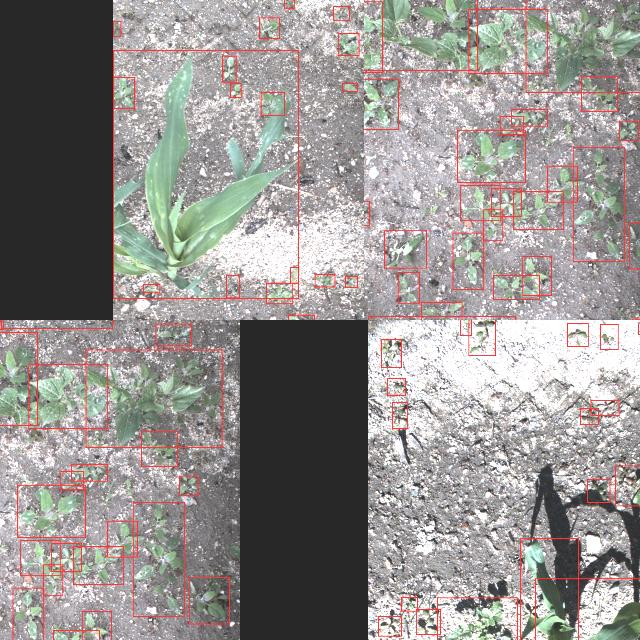crop: (112, 50, 298, 298), (85, 349, 222, 447), (524, 0, 640, 92), (364, 0, 476, 69), (534, 578, 640, 640), (520, 538, 578, 640), (468, 9, 548, 73), (28, 364, 108, 428), (0, 331, 36, 424), (364, 0, 381, 71)
weed: (572, 146, 624, 260), (132, 501, 184, 615), (457, 129, 525, 181), (17, 484, 85, 536), (436, 596, 516, 640), (189, 576, 229, 624), (513, 191, 563, 229), (73, 546, 123, 584), (452, 232, 483, 288), (364, 78, 397, 128), (12, 587, 43, 640), (384, 230, 426, 268), (459, 184, 499, 220), (19, 540, 59, 574), (141, 430, 177, 466), (581, 76, 617, 110), (493, 275, 539, 299), (547, 165, 577, 201), (107, 520, 137, 556), (522, 256, 550, 294), (614, 465, 640, 505), (467, 320, 494, 355), (81, 610, 110, 640), (491, 188, 521, 216), (51, 543, 81, 571), (155, 323, 191, 345), (420, 301, 461, 320), (112, 76, 134, 108), (42, 564, 62, 596), (416, 608, 440, 634), (398, 272, 418, 302), (482, 210, 502, 240), (511, 109, 547, 125), (71, 464, 107, 480), (586, 478, 610, 502), (266, 282, 292, 304), (380, 339, 400, 367), (260, 92, 284, 115), (566, 322, 588, 346), (629, 221, 640, 268), (53, 630, 99, 640), (338, 33, 358, 55), (259, 16, 279, 38), (378, 616, 400, 636), (499, 116, 523, 134), (59, 471, 83, 489), (600, 324, 618, 348), (618, 120, 638, 140), (178, 475, 198, 495), (590, 400, 618, 414), (222, 55, 236, 81), (392, 402, 406, 428), (225, 275, 239, 297), (386, 378, 404, 394), (580, 408, 598, 424), (314, 274, 334, 286), (399, 596, 416, 610), (333, 6, 349, 20), (459, 320, 470, 335), (288, 314, 314, 320), (142, 284, 160, 292), (230, 83, 240, 97), (290, 267, 298, 283), (112, 20, 120, 36), (345, 276, 357, 286), (342, 83, 356, 91), (284, 0, 294, 7)
